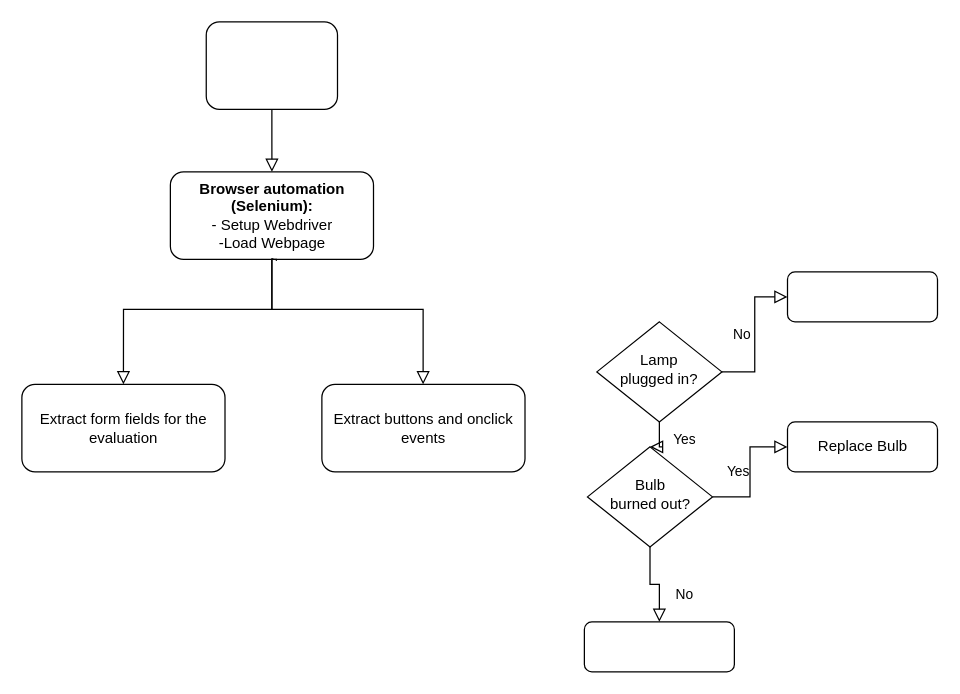
Image size: 960x694. Some labels were removed from this diagram. Here are the shapes that lost their labels. From the top down, the centre of each, then its label:
the point at 271,65: Setup: - Load API Key -Configure DSPy with LM and RM
the point at 862,296: Plug in lamp
the point at 658,646: Repair Lamp
